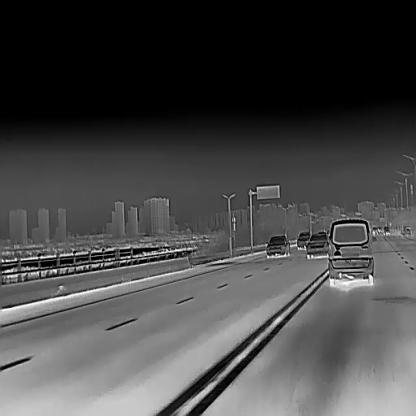car: (326, 217, 376, 284), (306, 231, 330, 258), (264, 234, 290, 256), (297, 230, 312, 249), (383, 226, 389, 236), (372, 227, 378, 234)
